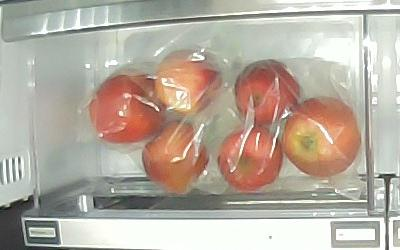apple_vinyl: (282, 96, 361, 178), (89, 70, 163, 144), (142, 120, 210, 194), (153, 49, 223, 116), (234, 59, 302, 127), (217, 127, 283, 192)
